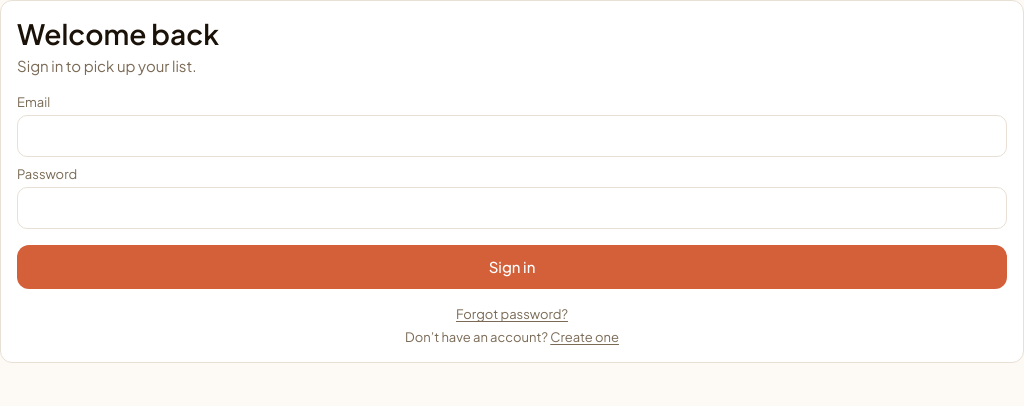
Scenario: <SignInPage> › email-not-confirmed maps to friendly copy
Type "alice@test.local" into the field labelled "Email".
click(512, 136); type("alice@test.local")  # box [17,115,1007,157]
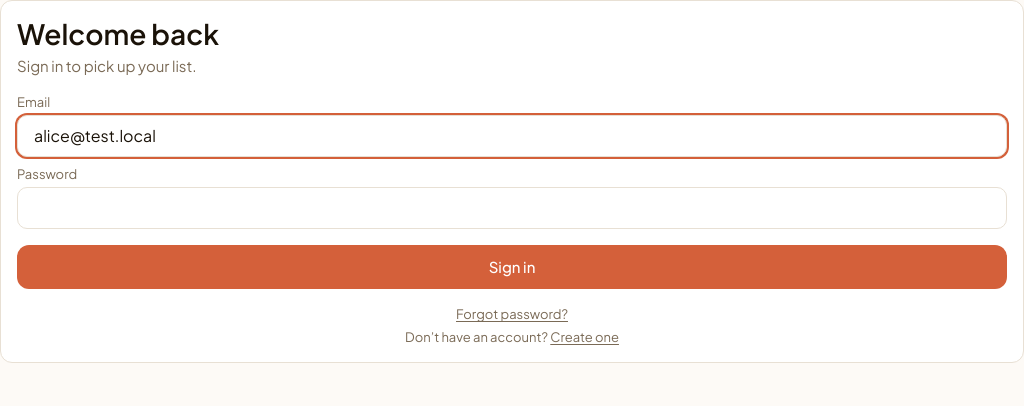
Type "Password123!" into the password field labelled "Password".
click(512, 208); type("Password123!")  # box [17,188,1007,230]
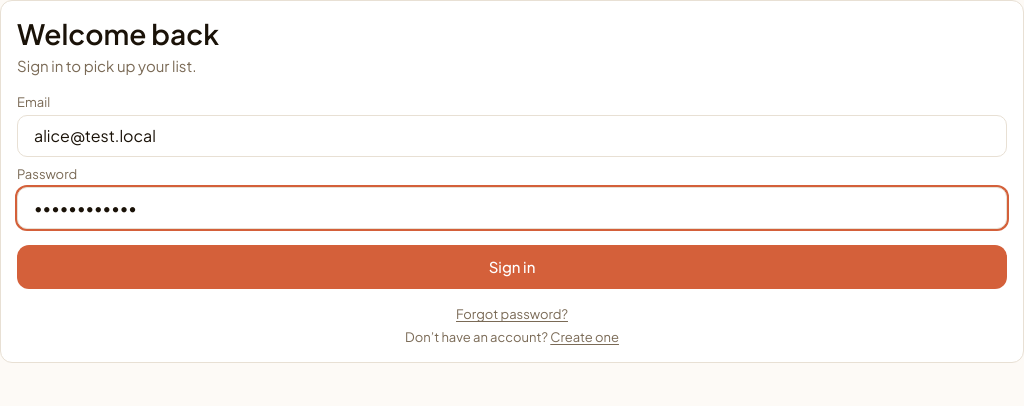
Click the button "Sign in".
click(512, 268)  # box [17,246,1007,290]
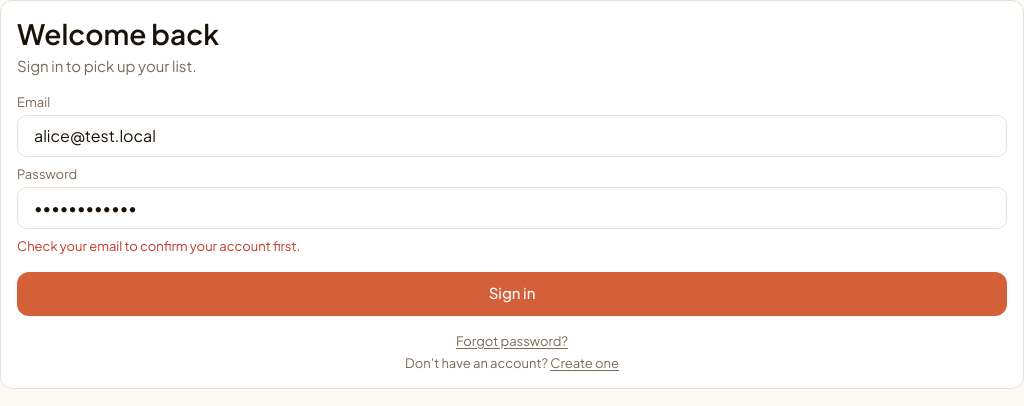
Now the message shows "Check your email to confirm", box [17,238,300,254]
